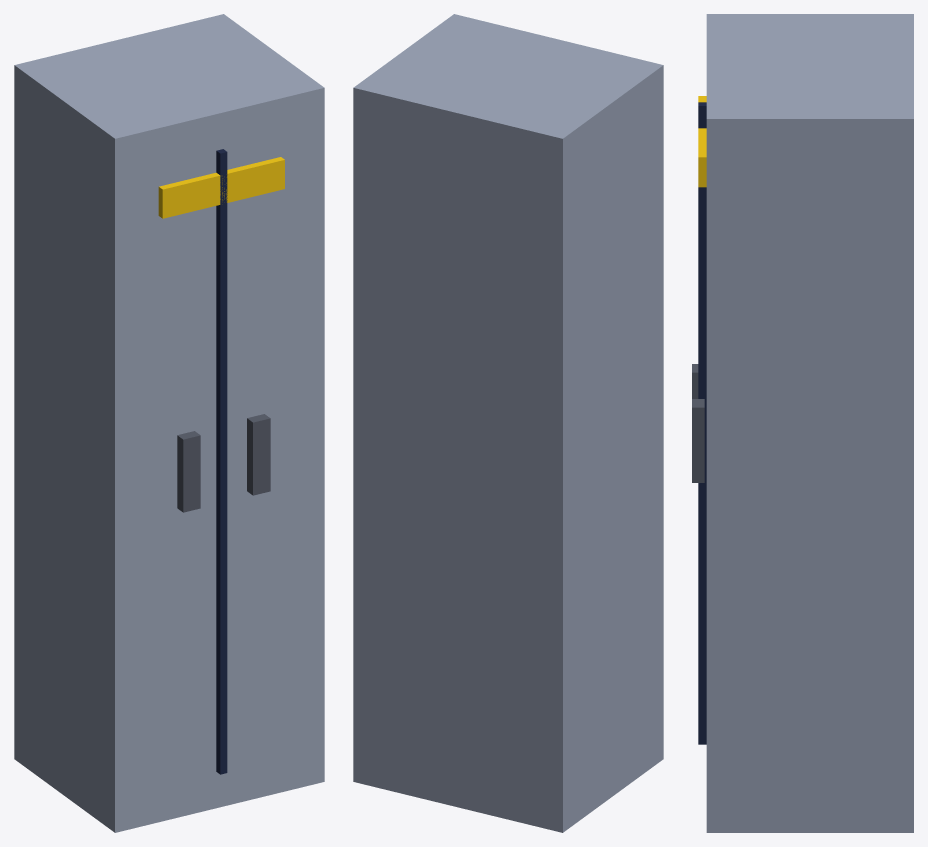
Rendered from stationpack-storage-locker.glb.
3 views of the same model, side by side, from view 1: azimuth 30°, elevation 25°; view 2: azimuth 150°, elevation 25°; view 3: azimuth 270°, elevation 25° (orthographic). The views are drawn at different scales.
Parts seen in each view (by area): view 1: storage_locker; view 2: storage_locker; view 3: storage_locker.
Part boxes in pixels (x1=…): storage_locker: x1=14, y1=14, x2=324, y2=832; storage_locker: x1=353, y1=14, x2=663, y2=832; storage_locker: x1=692, y1=14, x2=913, y2=832.
Size of the model in its own units: 0.6 by 1.9 by 0.535.
